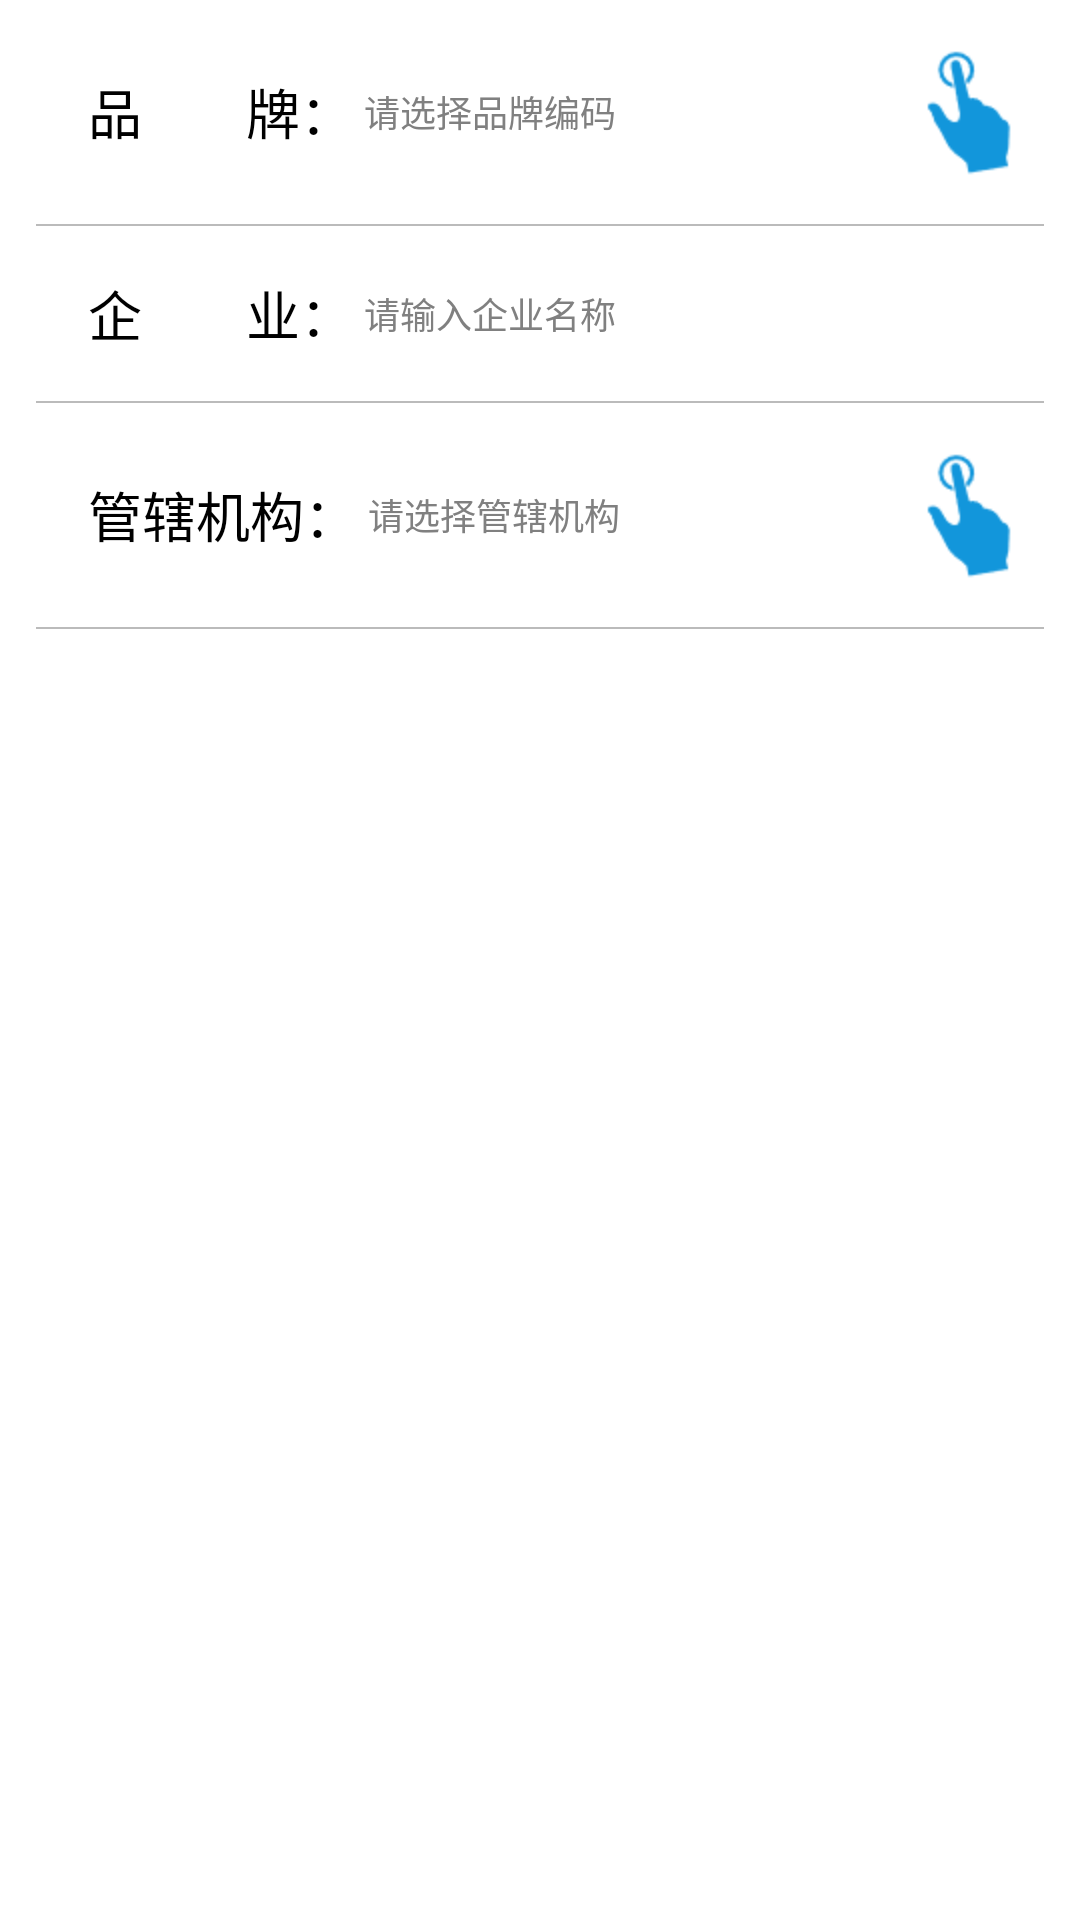

Where icons sit on this 1080px x 1920px app screen, as (x1, y1, x2, y2):
click: (927, 51, 1011, 174), (927, 454, 1011, 577)
